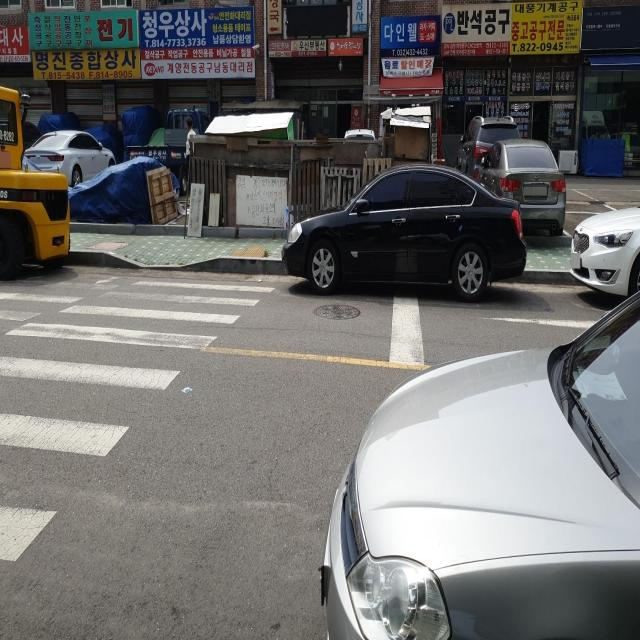횡단보도: (0, 271, 277, 563)
